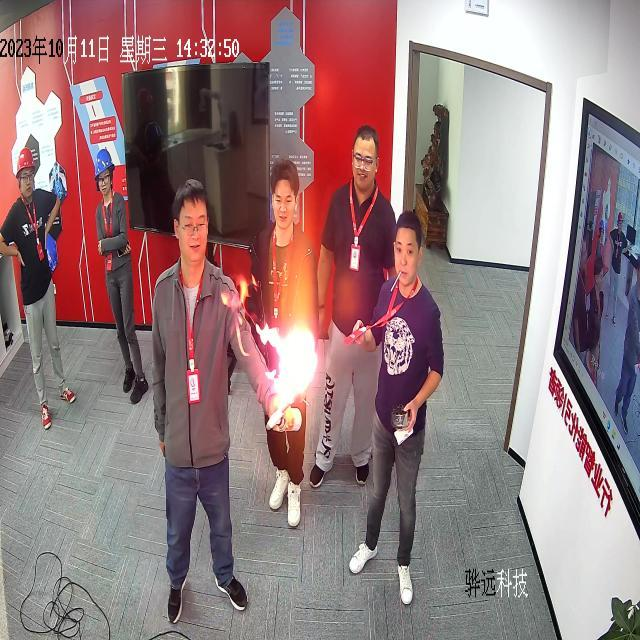Fire: (256, 322, 316, 406)
